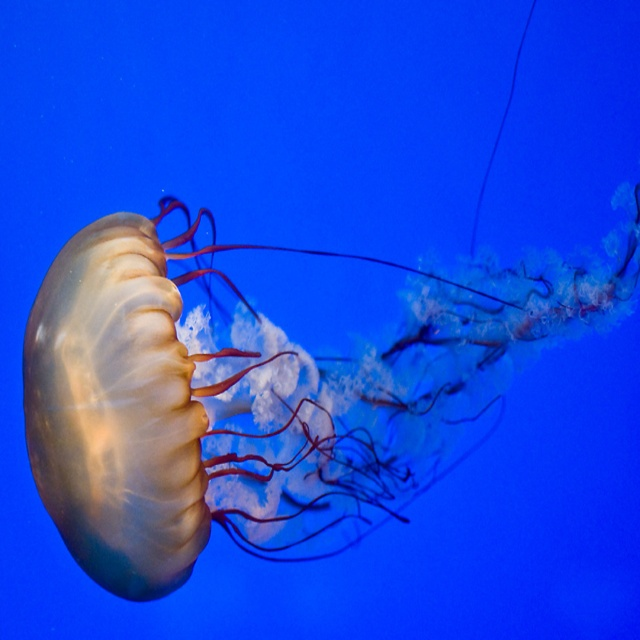Jellyfish: (22, 194, 238, 599)
